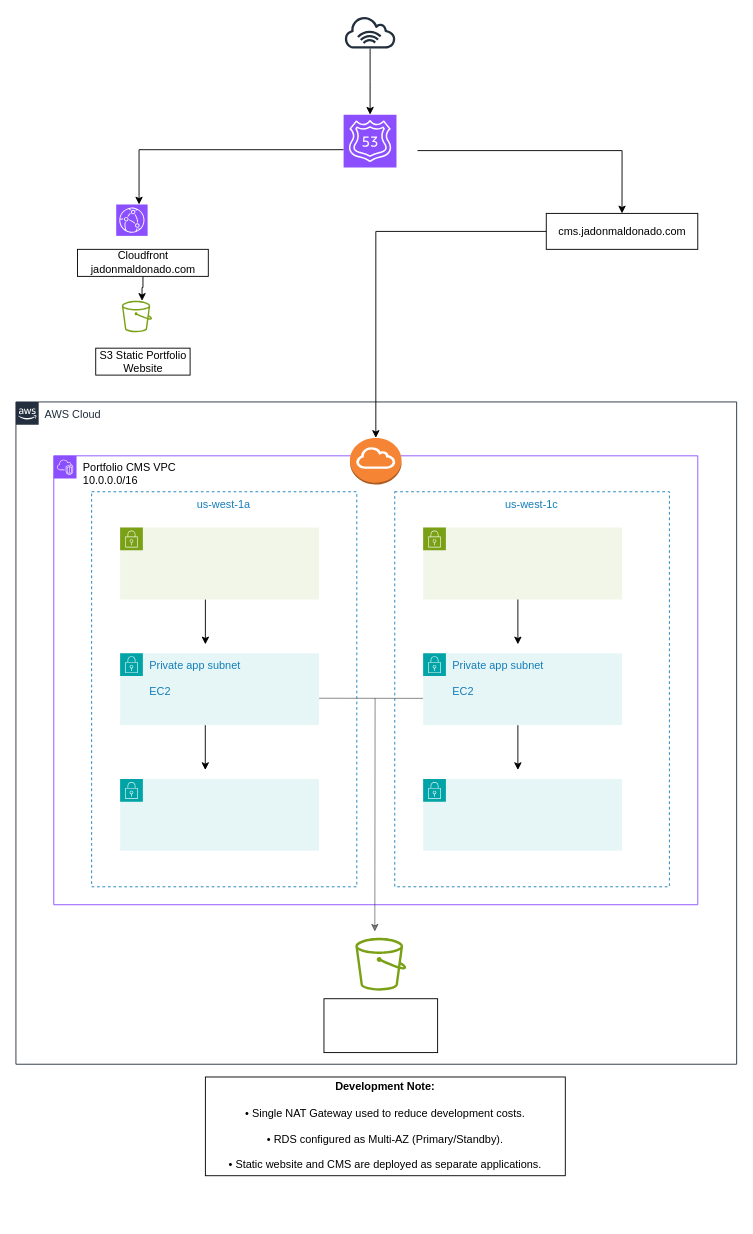
Some shapes in this 753 by 1234 pixel diagram are drawn without their labels. The shapes that lost their labels are listed below. From the top down, each one's centre as x and y in pixels, then its label:
At (x=219, y=563): "Public subnet ALB (Multi-AZ) NAT Gateway".
At (x=522, y=563): "Public subnet ALB (Multi-AZ)".
At (x=219, y=814): "Private DB subnet Amazon RDS (Primary)".
At (x=522, y=814): "Private DB subnet Amazon RDS (Standby)".
At (x=380, y=1025): "S3 Assets Bucket".
